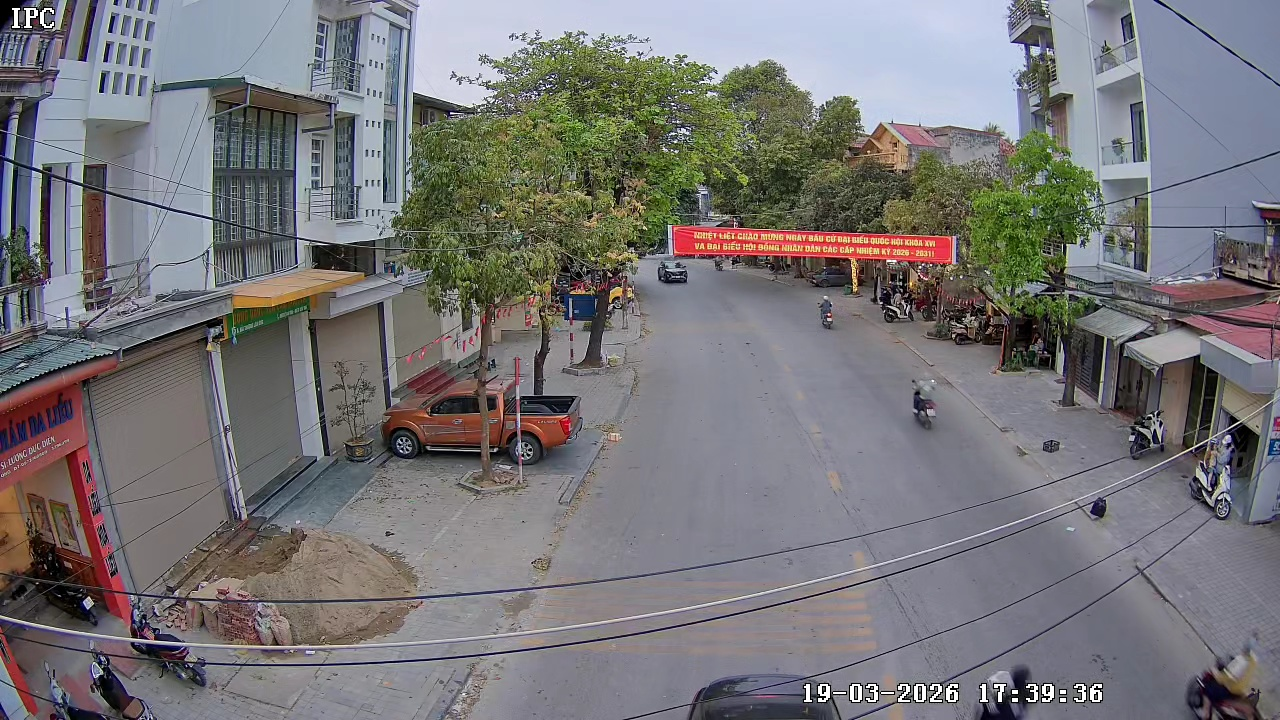motorbike: (910, 376, 938, 431), (817, 297, 835, 330)
truck: (379, 373, 583, 462)
